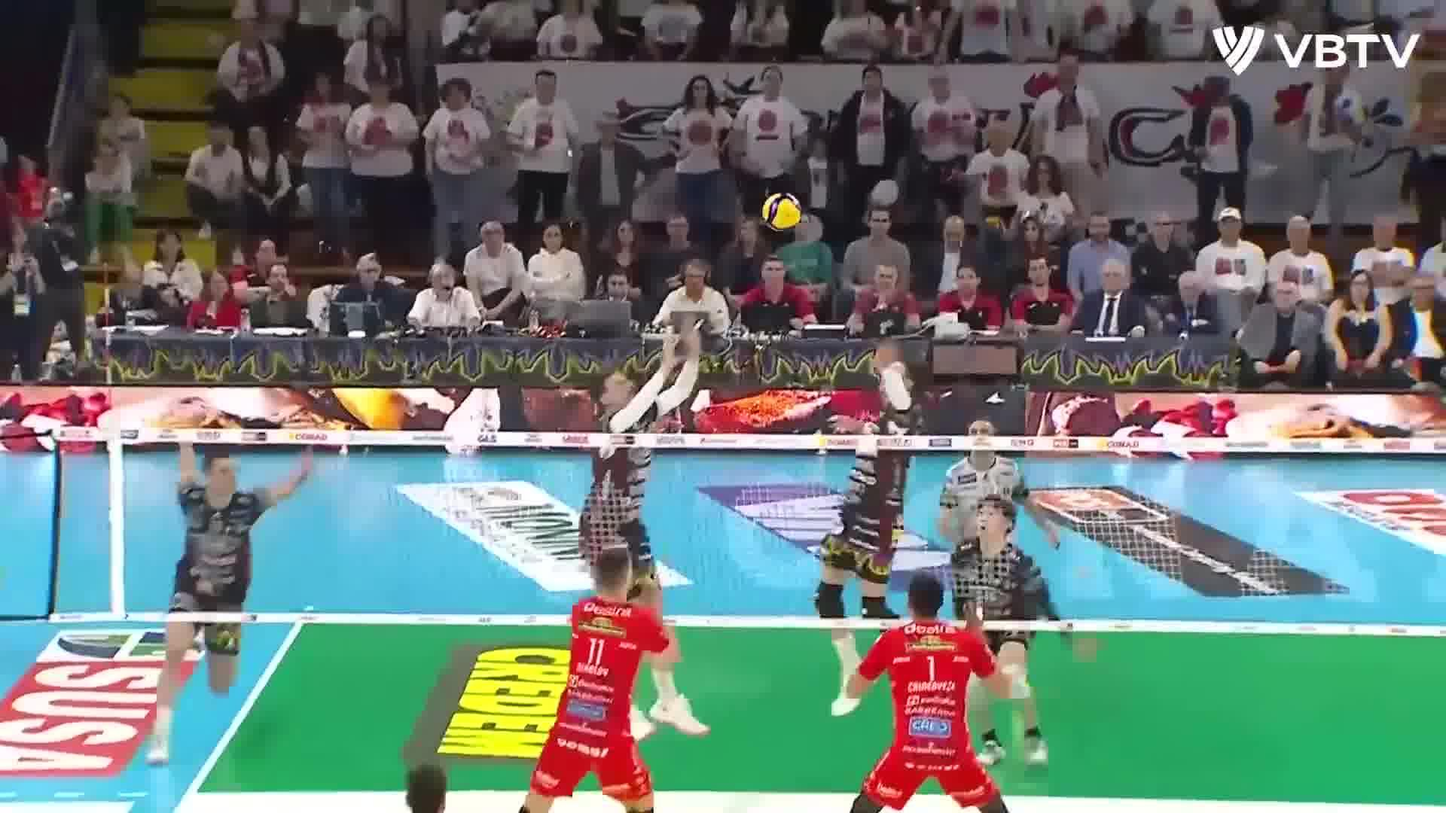balls: (760, 190, 804, 233)
